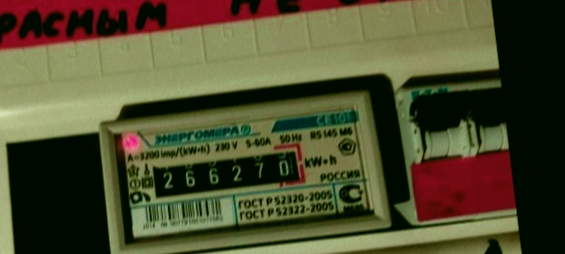0: (276, 157, 290, 178)
2: (160, 168, 176, 191), (230, 162, 244, 183)
6: (183, 168, 197, 189), (207, 165, 221, 185)
7: (252, 159, 267, 180)
screen: (138, 135, 316, 211)
